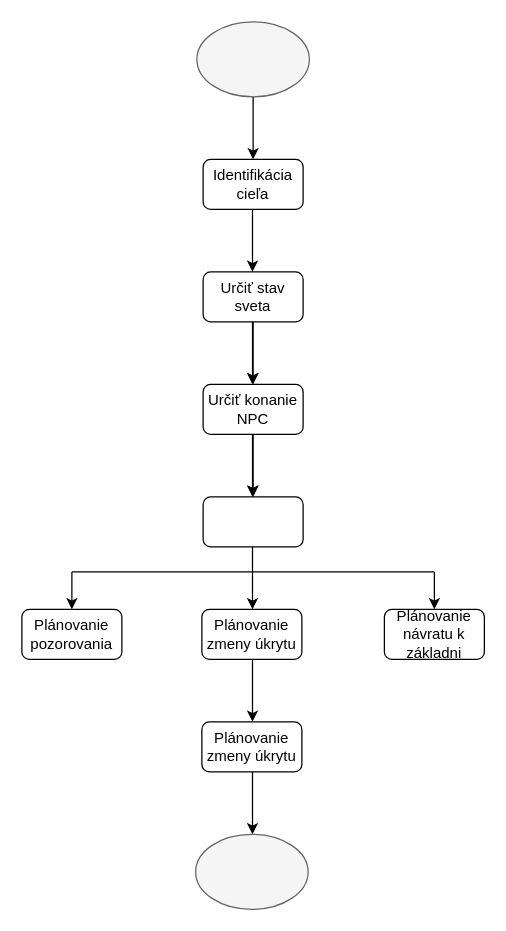
Some shapes in this 506 by 931 pixel diagram are drawn without their labels. The shapes that lost their labels are listed below. From the top down, each one's centre as x and y in pixels, then its label:
(252,59): Začiatok
(252,521): Plánovanie
(251,871): Koniec
